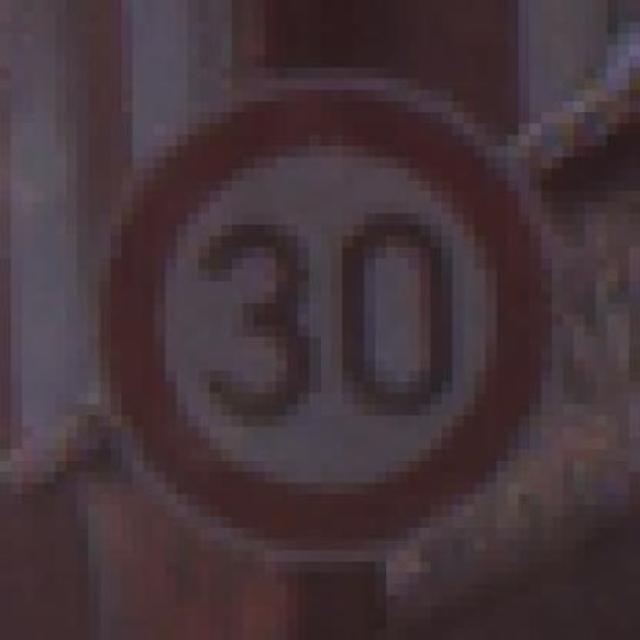Speed Limit 30 KMPh: (55, 78, 596, 572)
